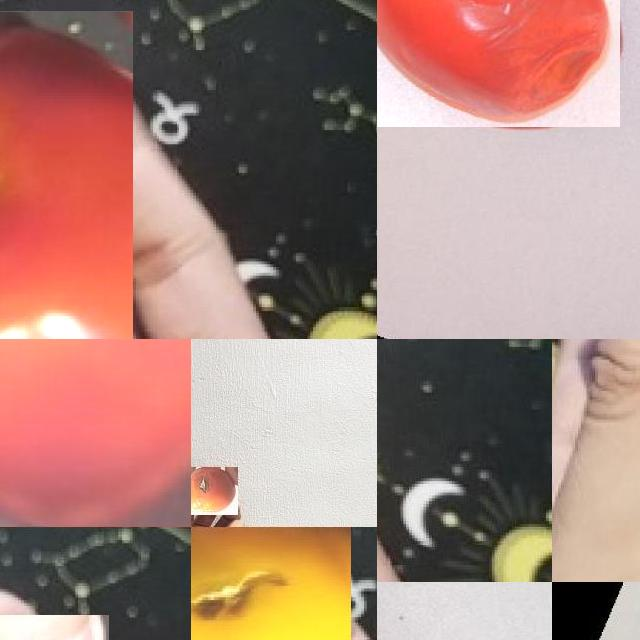Fresh Tomato: (0, 11, 133, 339), (0, 339, 191, 527)
Rotten Tomato: (377, 0, 620, 127), (191, 527, 351, 640), (191, 467, 237, 514)
